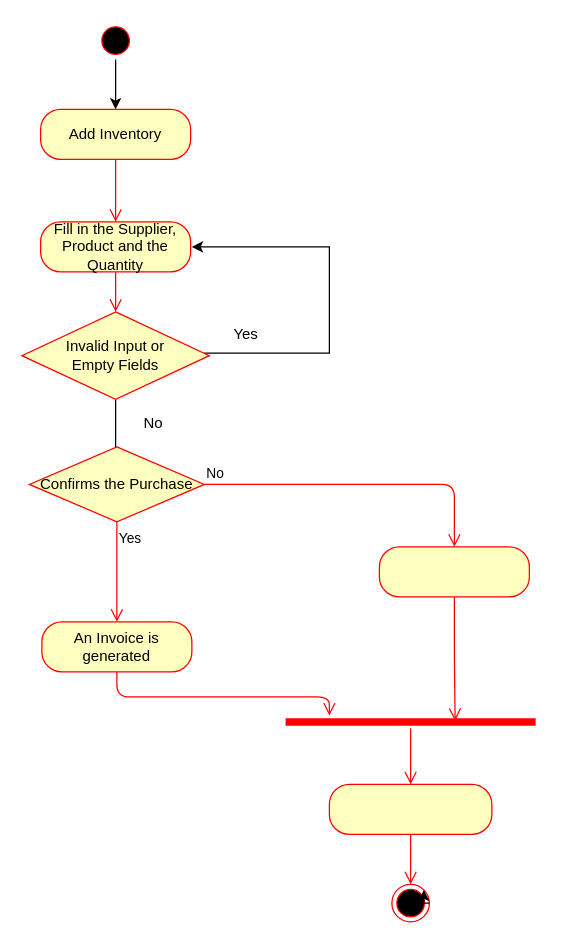
Image size: 561x944. Some labels were removed from this diagram. The shapes that lost their labels are listed below. From the top down, each one's centre as x and y in pixels, then its label:
the point at 453,571: Cancel
the point at 410,808: Back to the Inventory Items
